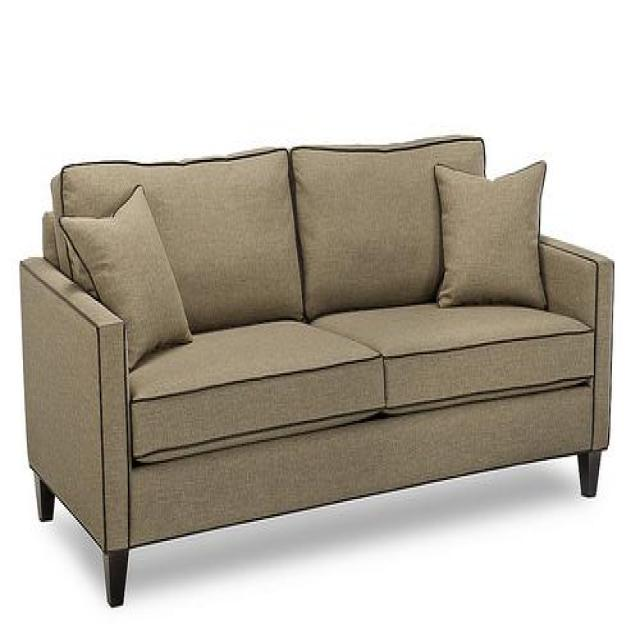sofa: (18, 130, 618, 617)
